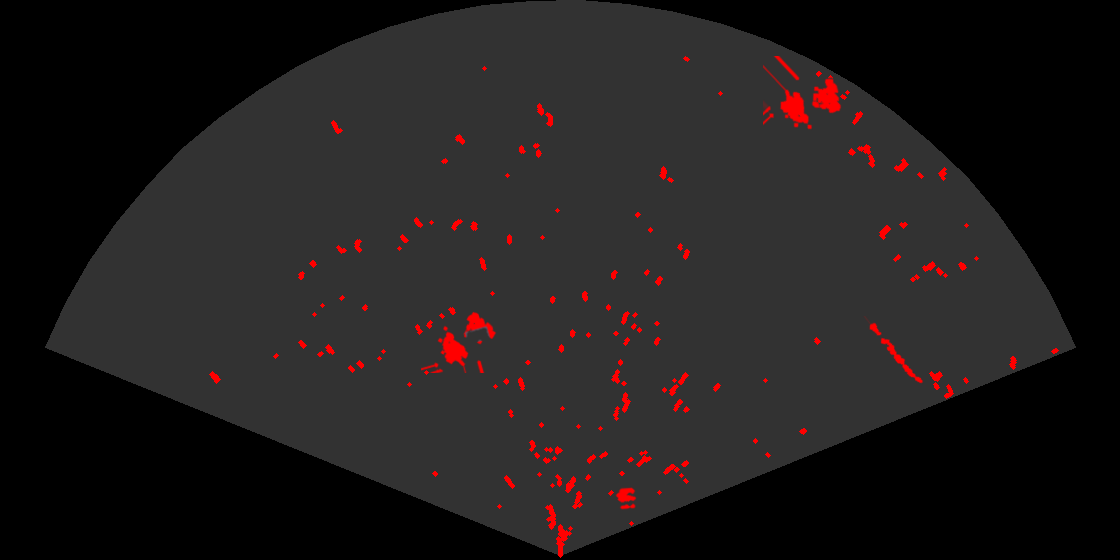ball: (614, 486, 638, 511)
cage: (763, 56, 843, 131), (421, 310, 498, 373)
chain: (862, 316, 925, 385)
